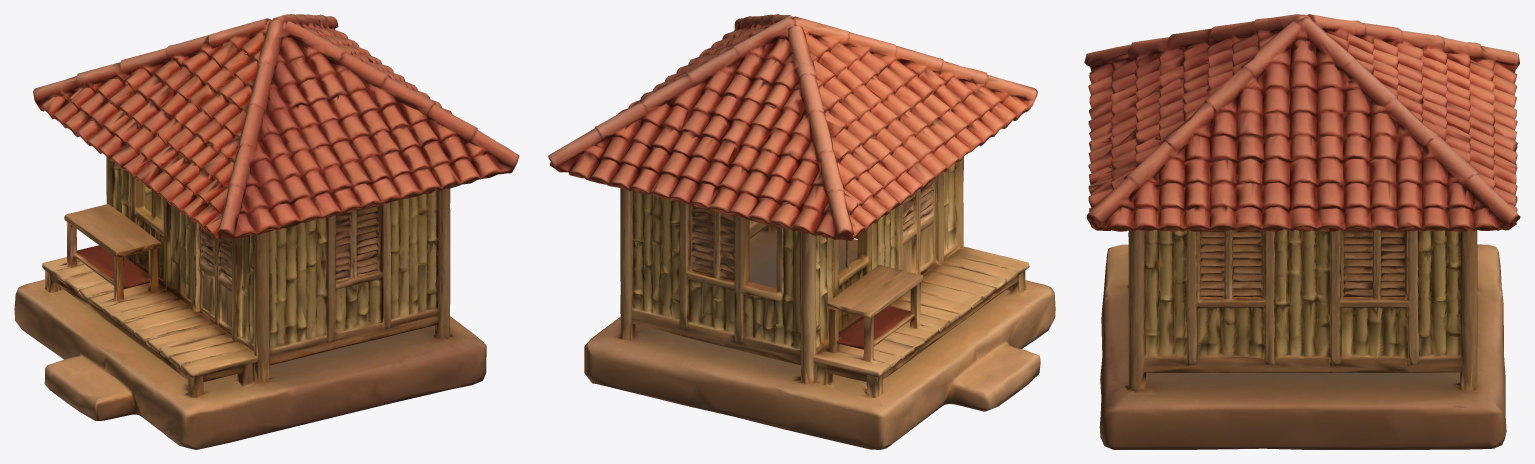
The model's file is nha-mai-ngoi.a436d678.glb.
3 views of the same model, side by side, from view 1: azimuth 30°, elevation 25°; view 2: azimuth 150°, elevation 25°; view 3: azimuth 270°, elevation 25° (orthographic). The views are drawn at different scales.
Visible parts, largest first — view 1: tripo_node_f14fa982-ebdf-46bf-9648-429ff875a777; view 2: tripo_node_f14fa982-ebdf-46bf-9648-429ff875a777; view 3: tripo_node_f14fa982-ebdf-46bf-9648-429ff875a777.
Part boxes in pixels (left/top/right/bottom): tripo_node_f14fa982-ebdf-46bf-9648-429ff875a777: left=14, top=14, right=519, bottom=449; tripo_node_f14fa982-ebdf-46bf-9648-429ff875a777: left=548, top=14, right=1055, bottom=449; tripo_node_f14fa982-ebdf-46bf-9648-429ff875a777: left=1084, top=14, right=1520, bottom=449.
Size of the model in its own units: 0.9786 by 0.8385 by 0.8897.
Materials: 1 (1 with a texture image).
